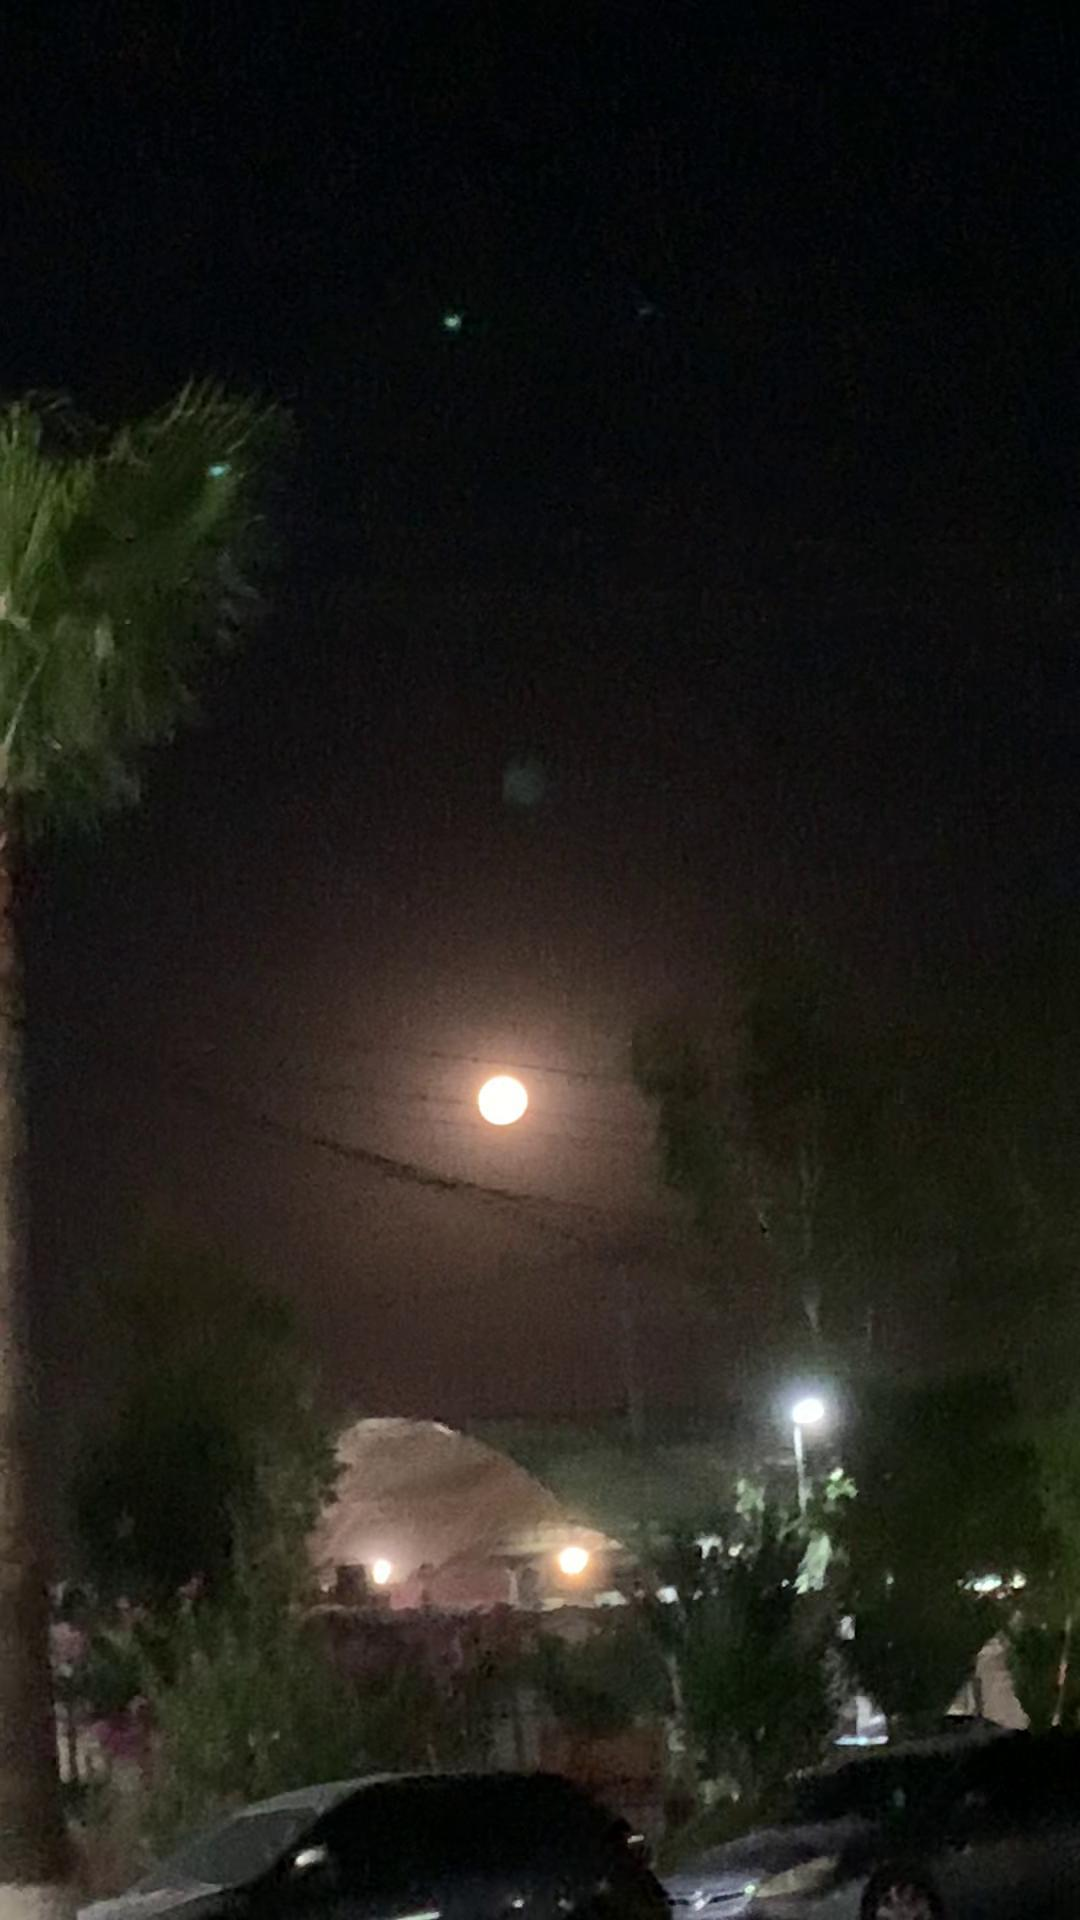moon: (455, 1066, 563, 1161)
